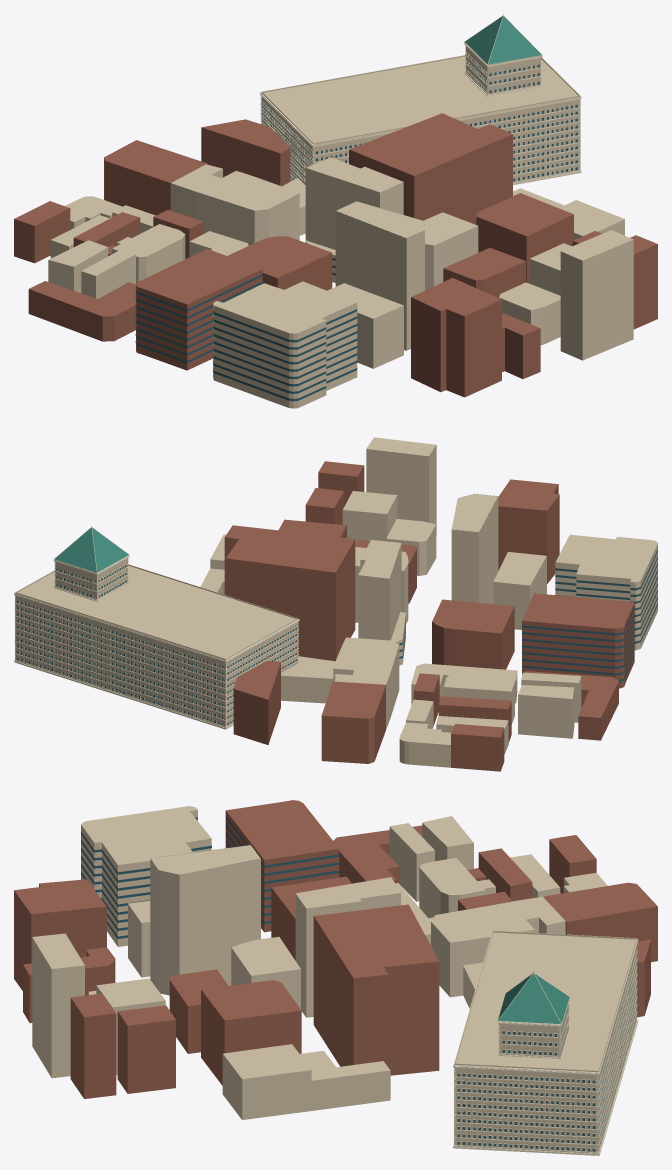
File: city_-3_0.glb
3 renders of one model, top to bottom at view 1: azimuth 30°, elevation 25°; view 2: azimuth 150°, elevation 25°; view 3: azimuth 270°, elevation 25°, orthographic. The views are drawn at different scales.
Visible parts, largest first — view 1: city_-3_0; view 2: city_-3_0; view 3: city_-3_0.
Boxes of the visible parts, <box> form: city_-3_0: <box>14,14,657,408</box>; city_-3_0: <box>14,437,657,771</box>; city_-3_0: <box>14,800,657,1155</box>.
Bounding box in the file's own units: 327 × 77 × 291.
